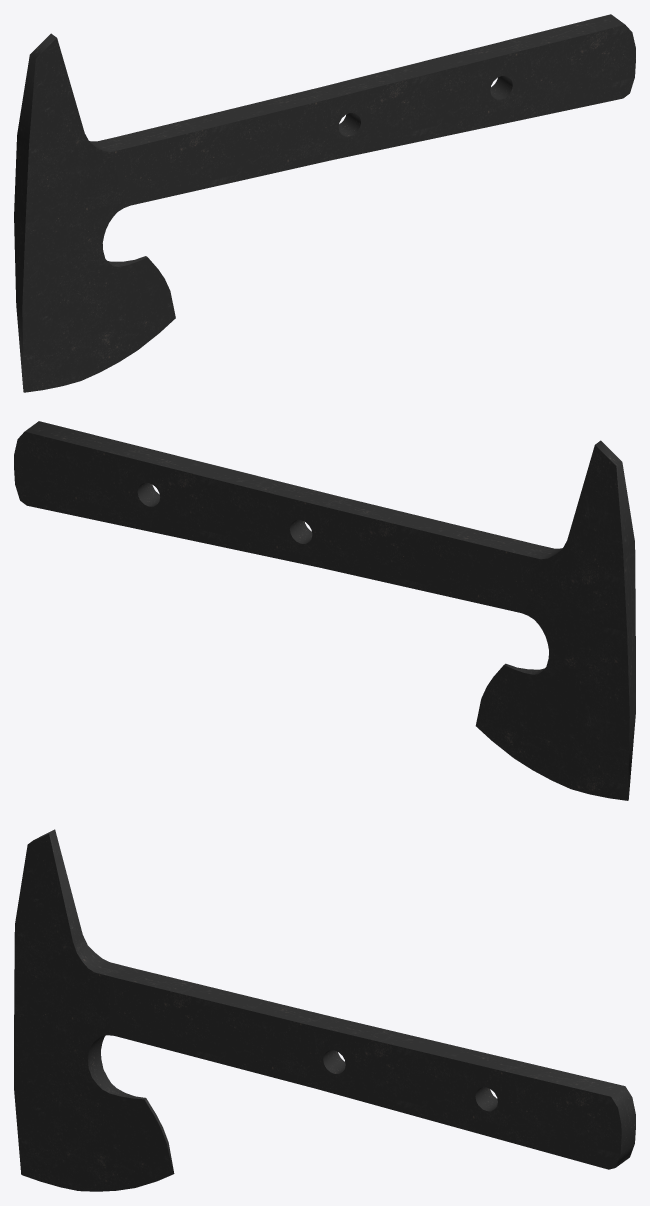
Rendered from throwing_axe.glb.
3 renders of one model, top to bottom at view 1: azimuth 30°, elevation 25°; view 2: azimuth 150°, elevation 25°; view 3: azimuth 330°, elevation 25°, orthographic.
Visible parts, largest first — view 1: Cube; view 2: Cube; view 3: Cube.
Boxes of the visible parts, bbox=[...] form: Cube: bbox=[14, 14, 635, 392]; Cube: bbox=[14, 421, 635, 800]; Cube: bbox=[14, 829, 635, 1191].
Bounding box in the file's own units: 0.3043 × 0.168 × 0.0124.
1 material, 1 textured.
